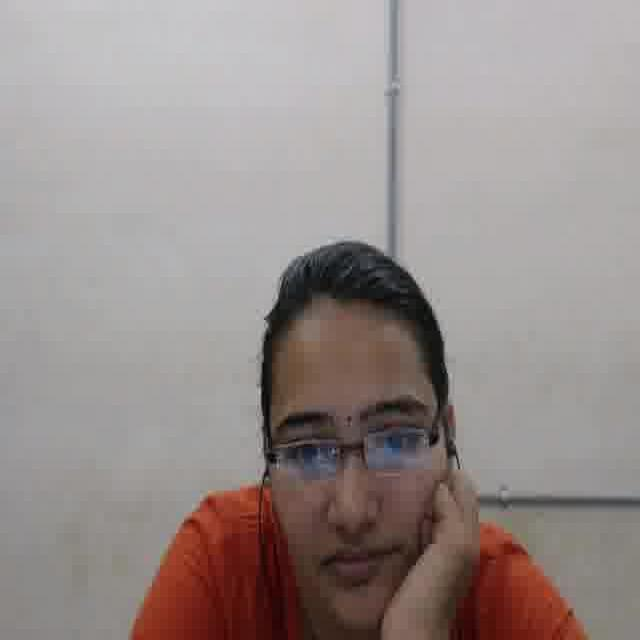Boredom: (263, 322, 446, 638)
